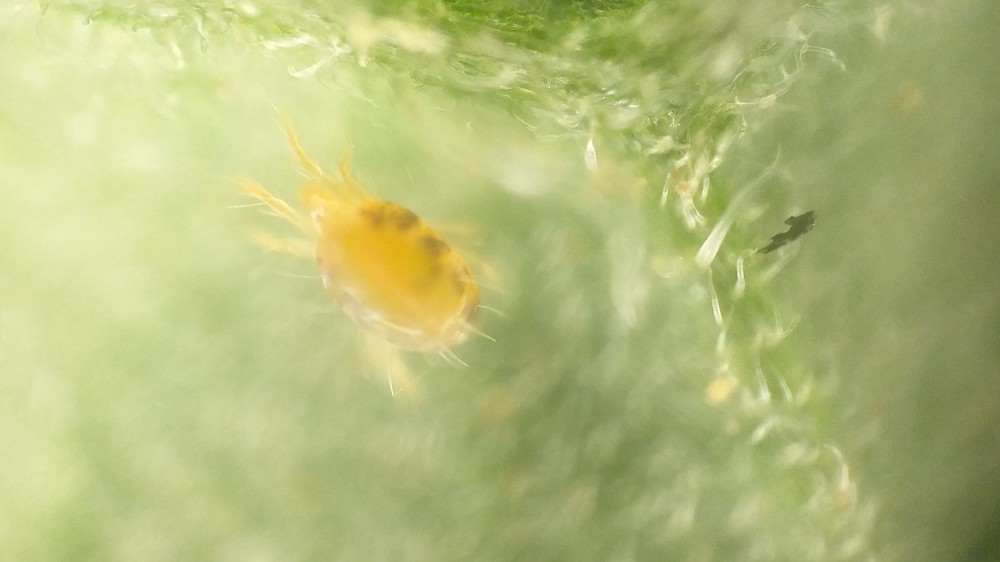Aracnido Rojo: (236, 108, 528, 429)
